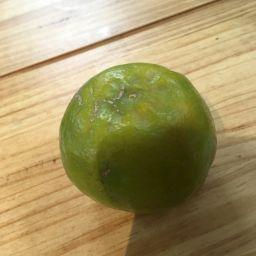Unripe: (59, 63, 215, 211)
